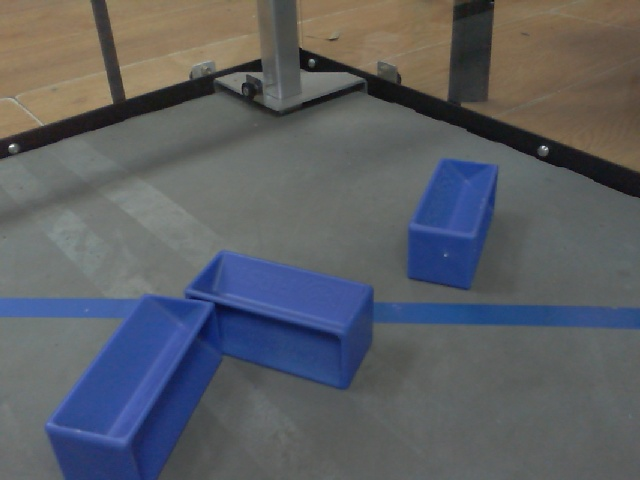BlueSample: (39, 290, 221, 478), (181, 246, 378, 396), (402, 156, 504, 295)
